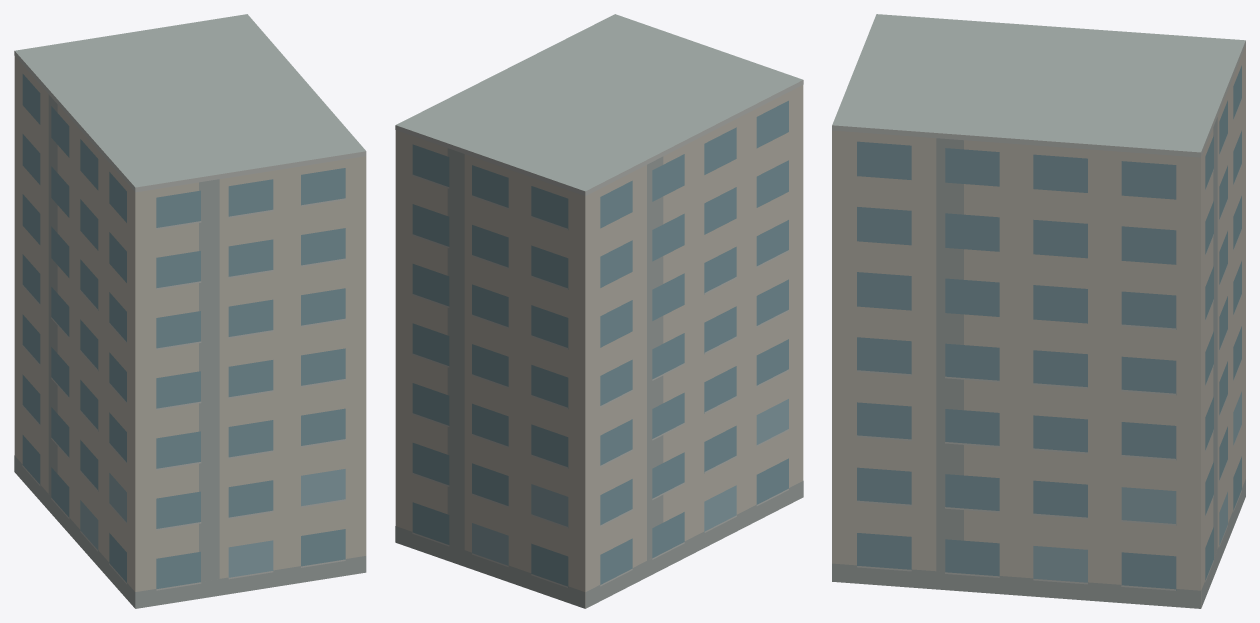
File: survey-upis-32693072.glb
3 views of the same model, side by side, from view 1: azimuth 30°, elevation 25°; view 2: azimuth 150°, elevation 25°; view 3: azimuth 270°, elevation 25° (orthographic). The views are drawn at different scales.
Visible parts, largest first — view 1: survey-upis-32693072.tmp; view 2: survey-upis-32693072.tmp; view 3: survey-upis-32693072.tmp.
Boxes of the visible parts, left/top/right/bottom form: survey-upis-32693072.tmp: left=14, top=14, right=366, bottom=608; survey-upis-32693072.tmp: left=395, top=14, right=803, bottom=608; survey-upis-32693072.tmp: left=832, top=14, right=1245, bottom=608.
Bounding box in the file's own units: 13.9 × 21.35 × 17.55.
